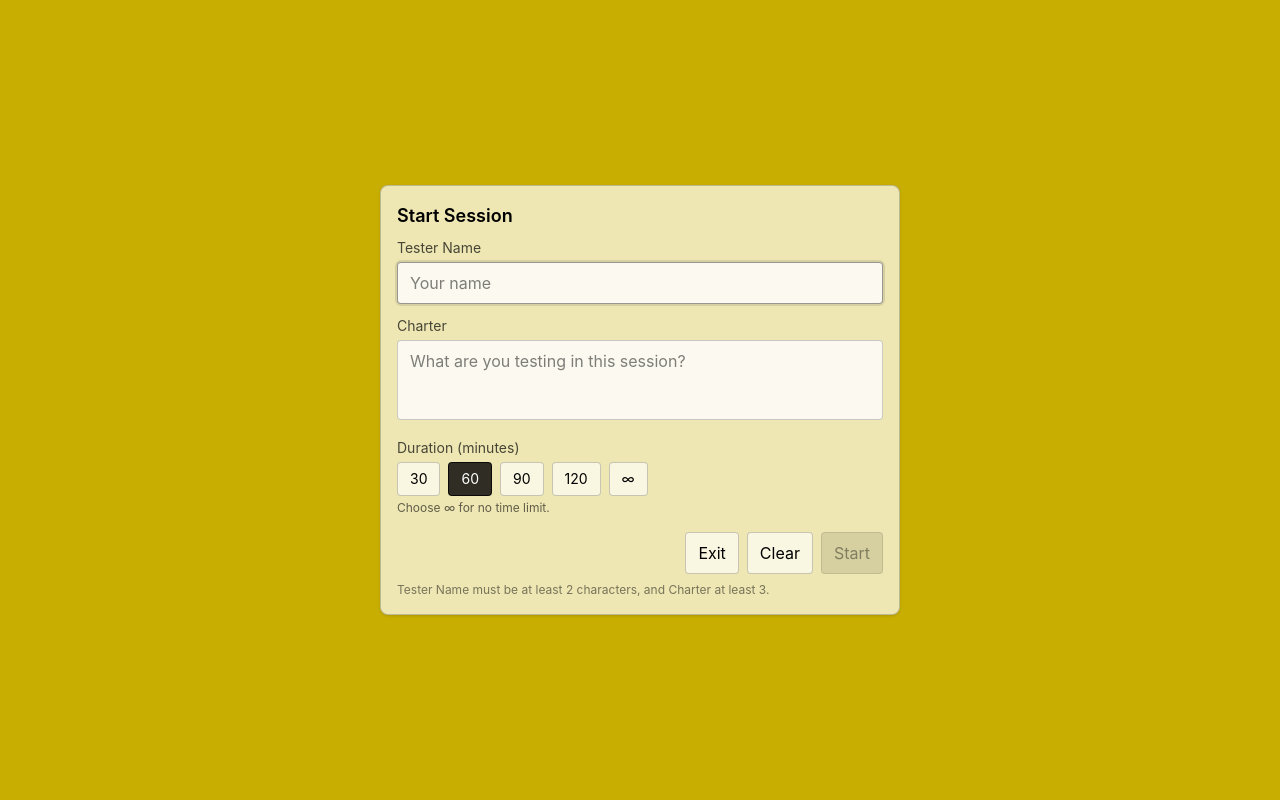
App › starting a session shows the main capture UI
In the field with placeholder "Your name": (640, 283) top-left (397, 262), bottom-right (883, 304), type "Del"
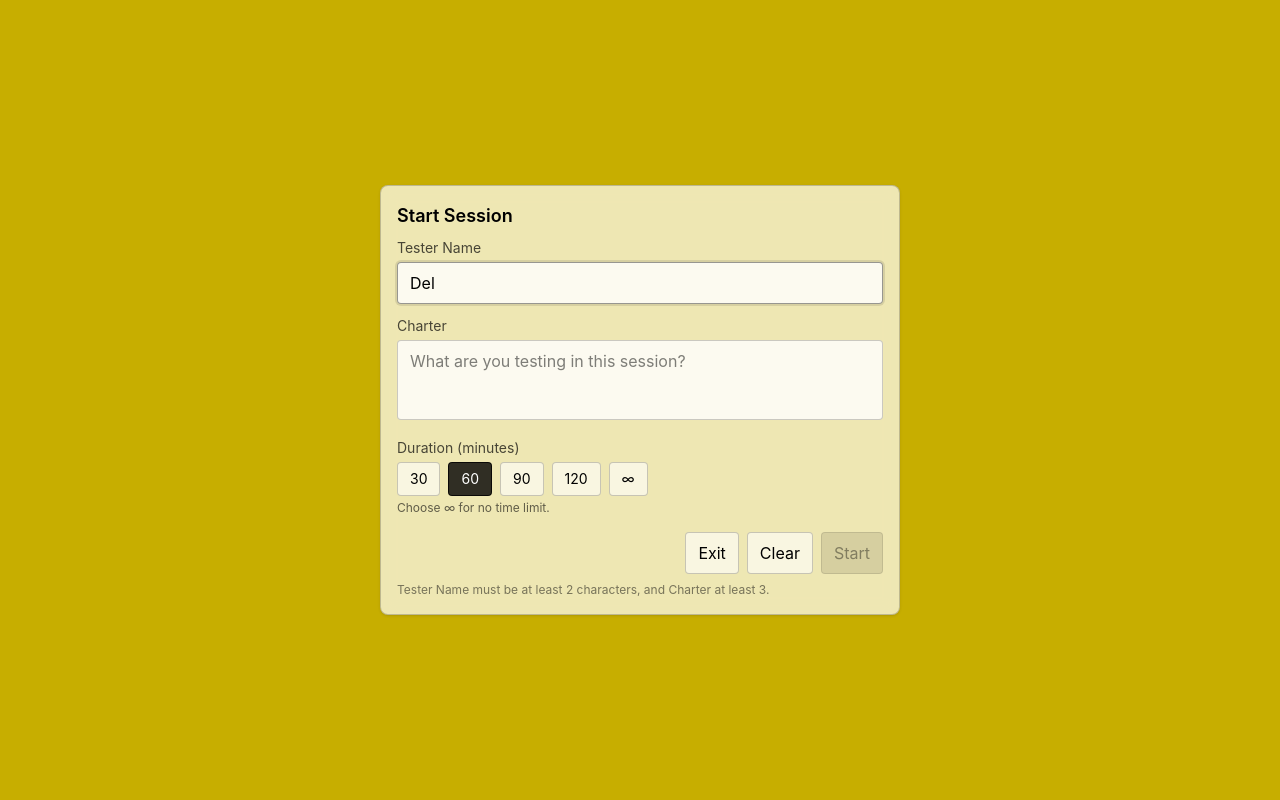
In the text box with placeholder "What are you testing in this session?": (640, 380) top-left (397, 340), bottom-right (883, 420), type "  My charter  "
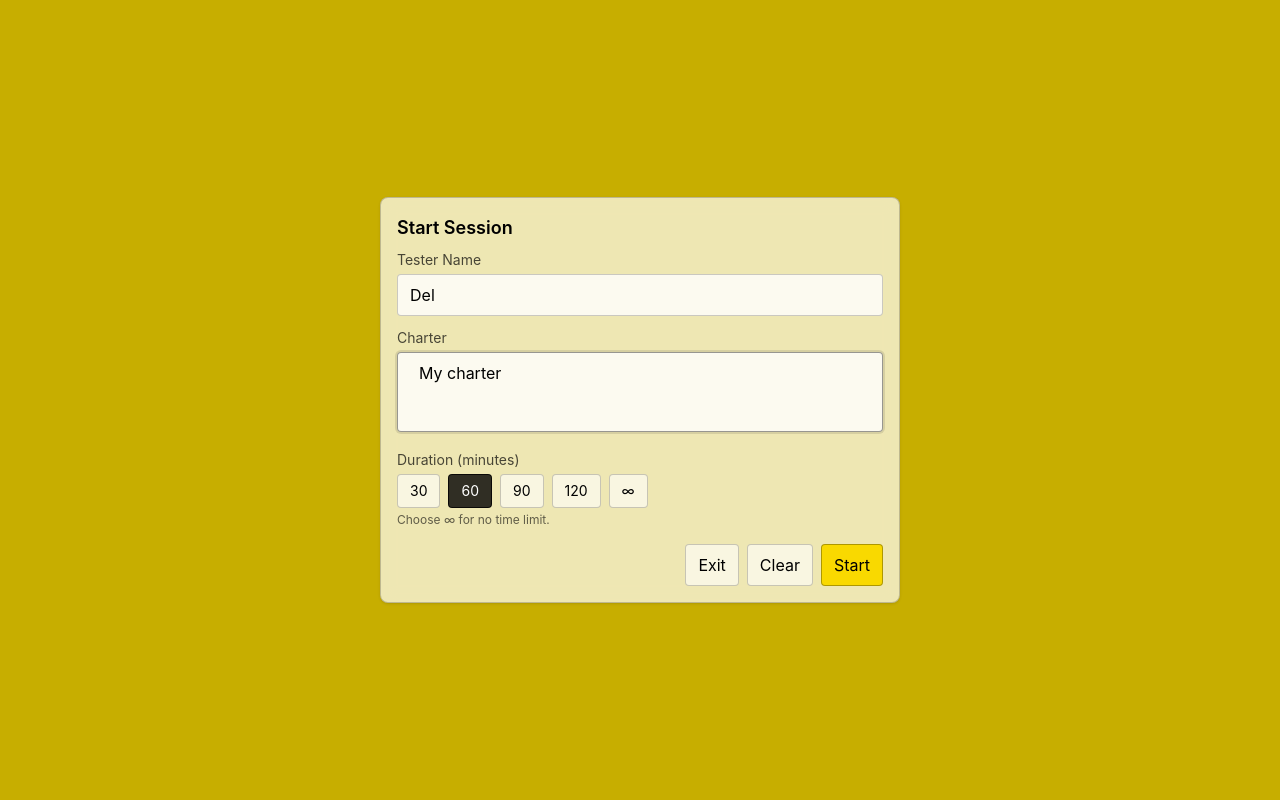
Expected: the button "Start" is enabled
Click the button "Start": (852, 565) top-left (821, 544), bottom-right (883, 586)
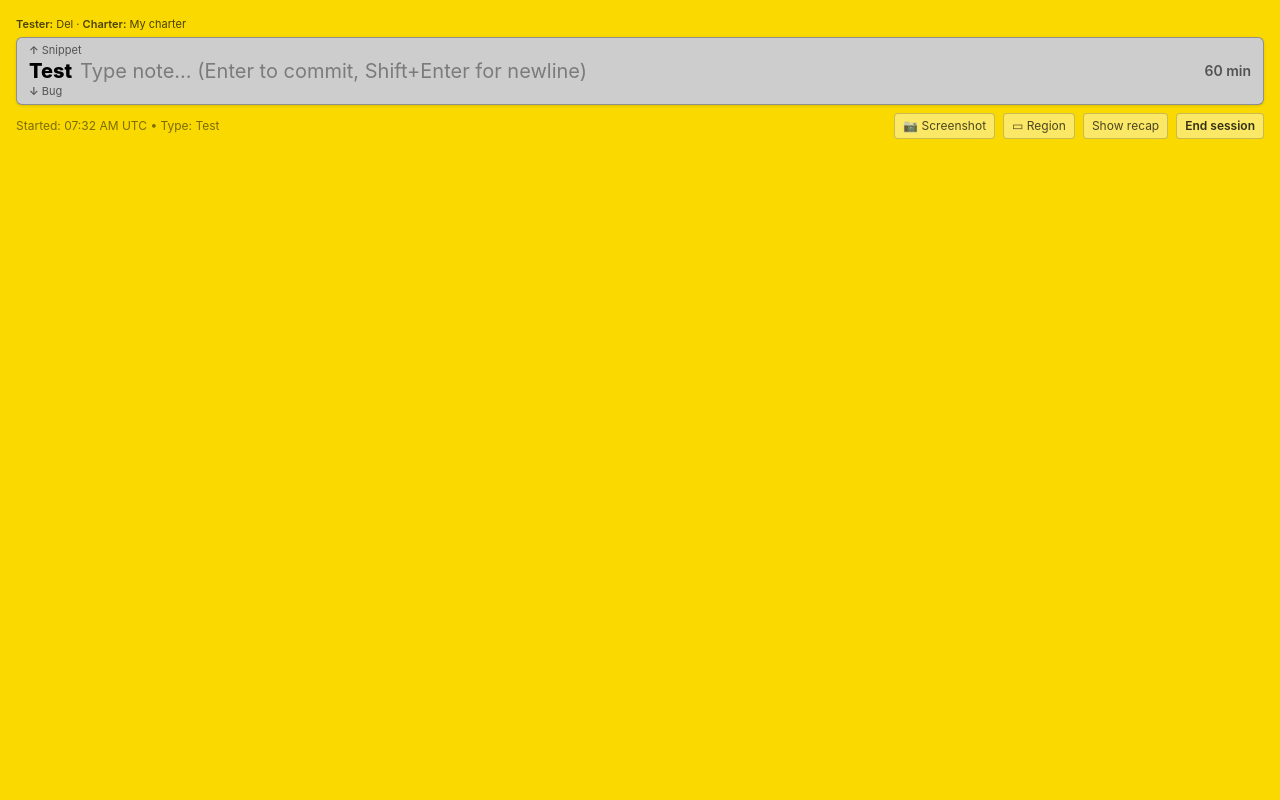
Expected: the text box with placeholder "Type note… (Enter to commit, Shift+Enter for newline)" is shown, top-left (80, 54), bottom-right (1183, 88)
Expected: the text "Charter:" is shown, top-left (83, 17), bottom-right (126, 31)
